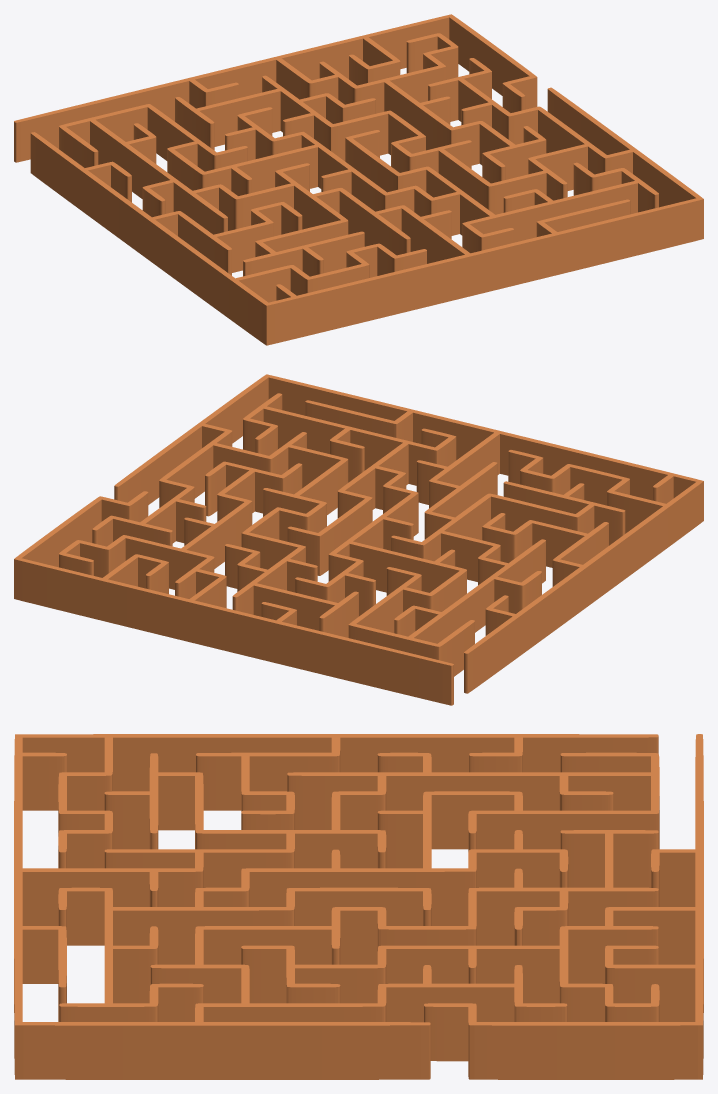
File: labyrinth.fbx
The picture shows the model from 3 angles, top to bottom: view 1: azimuth 30°, elevation 25°; view 2: azimuth 150°, elevation 25°; view 3: azimuth 270°, elevation 25°; orthographic projection. The views are drawn at different scales.
Parts seen in each view (by area): view 1: lbr; view 2: lbr; view 3: lbr.
Boxes of the visible parts, x1,y1,x2,y2 form: lbr: (14, 14, 703, 345); lbr: (14, 374, 703, 705); lbr: (14, 734, 703, 1079).
Bounding box in the file's own units: 346 × 30 × 345.
